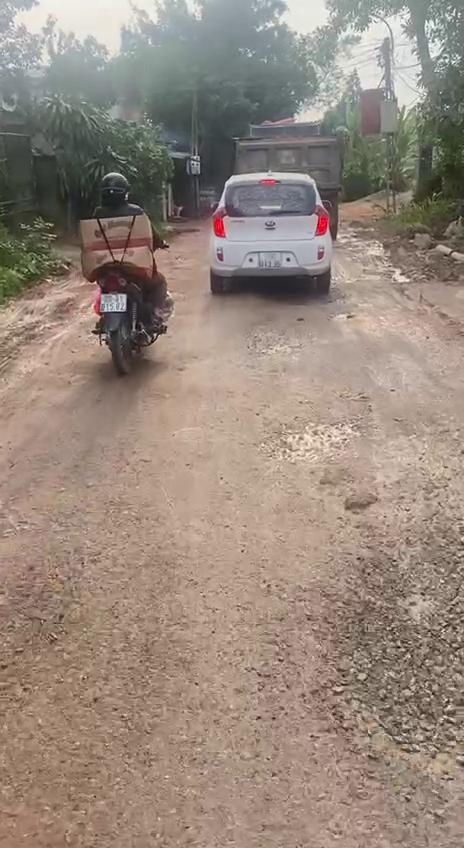pothole: (325, 528, 464, 769), (268, 412, 360, 472)
